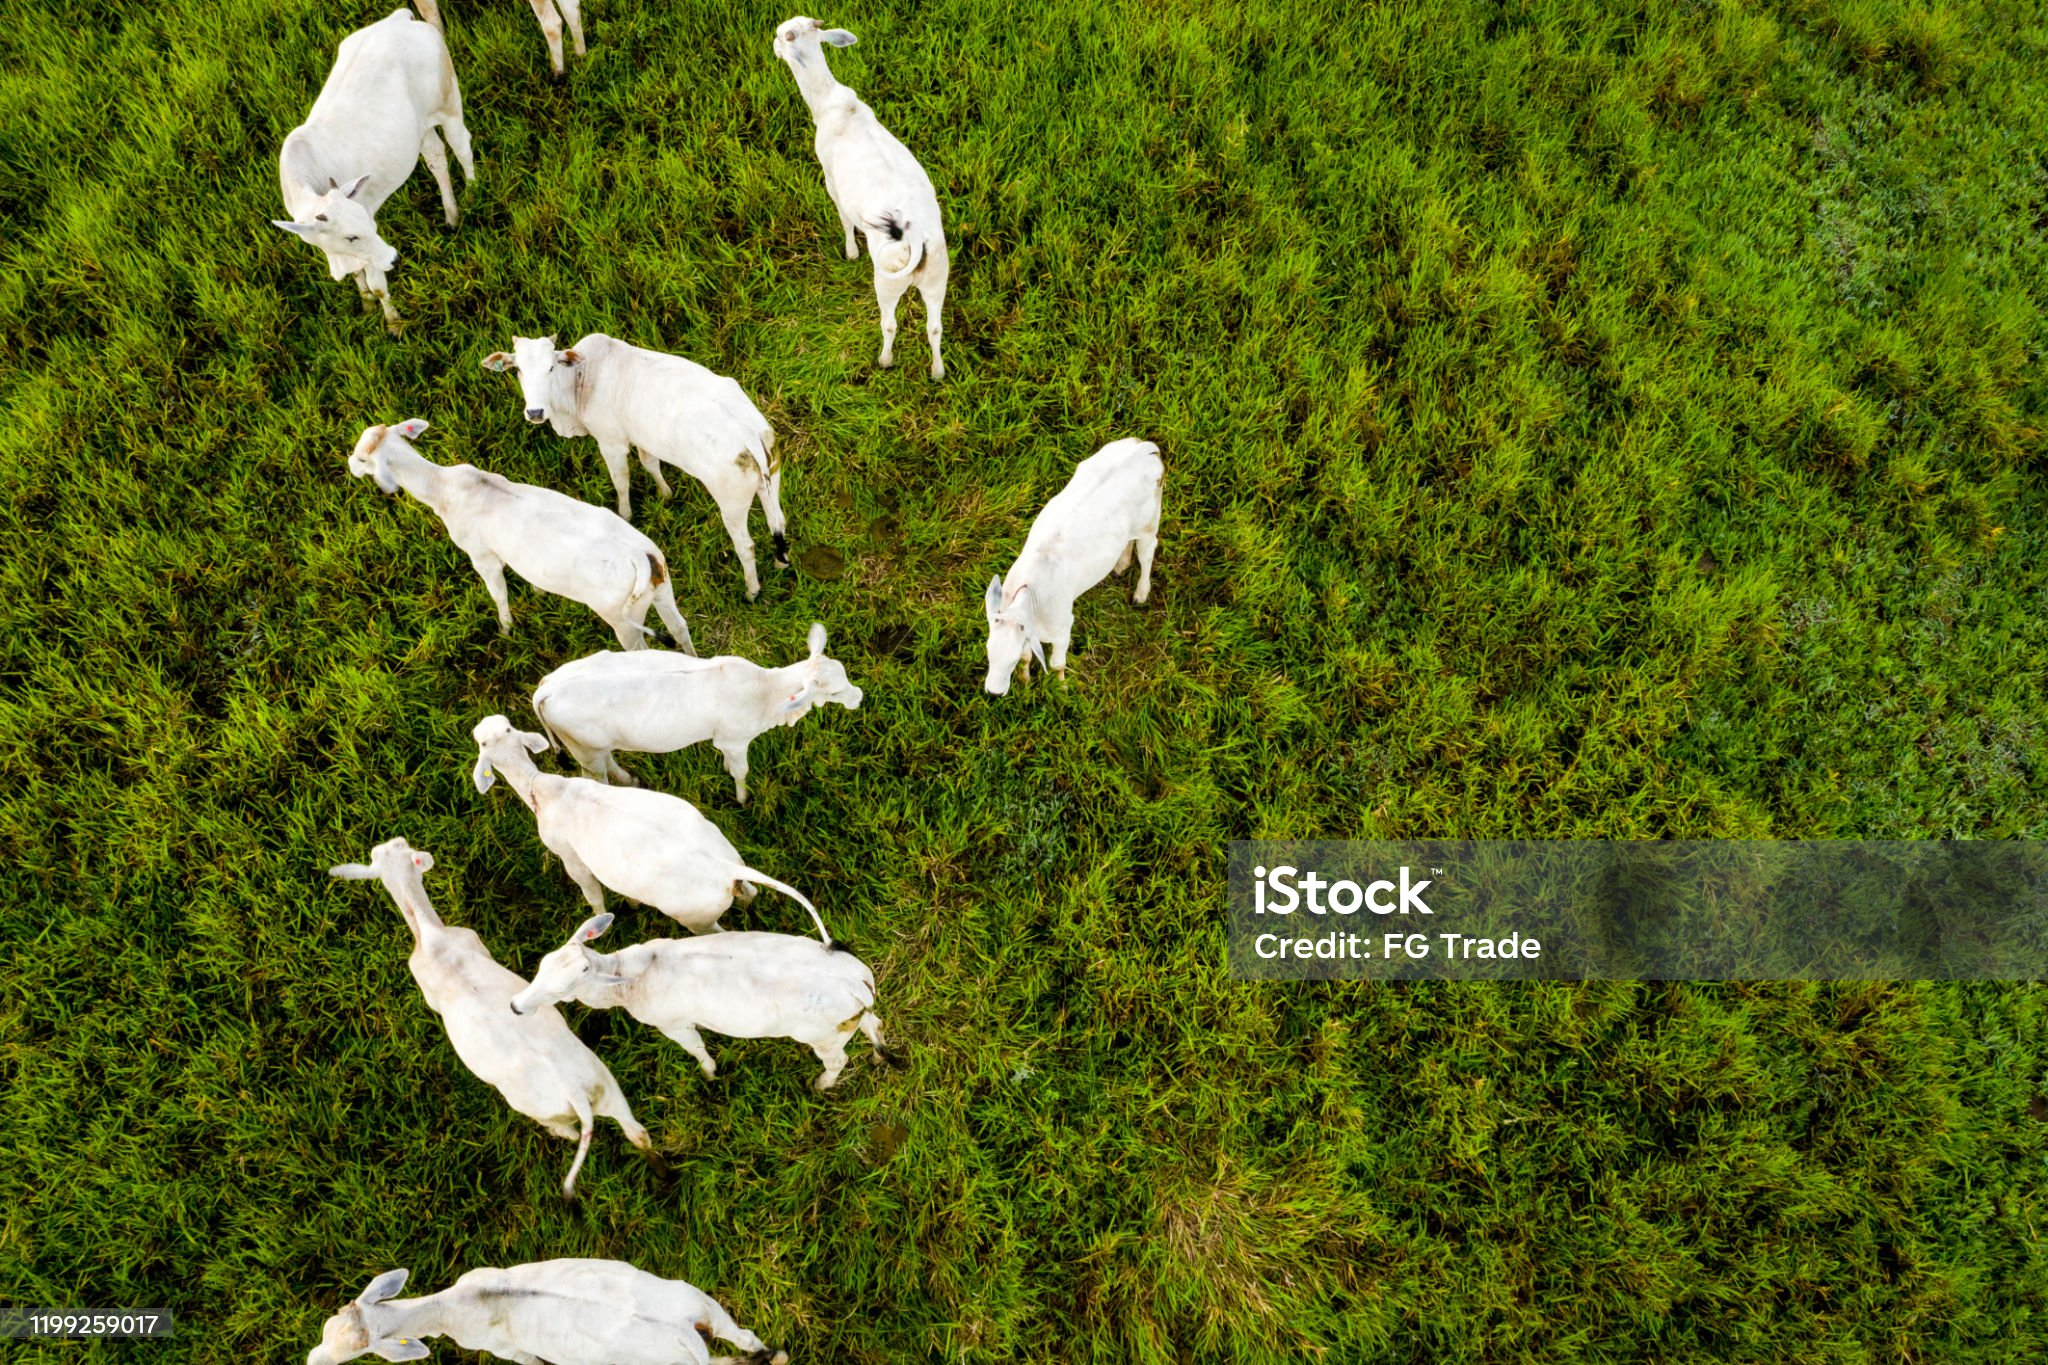cattle: (318, 814, 653, 1216), (486, 318, 888, 580), (317, 407, 719, 654), (738, 9, 1008, 375), (522, 893, 933, 1109), (298, 1210, 839, 1365), (455, 699, 805, 931), (242, 8, 490, 334), (509, 640, 889, 797), (959, 431, 1177, 695)
